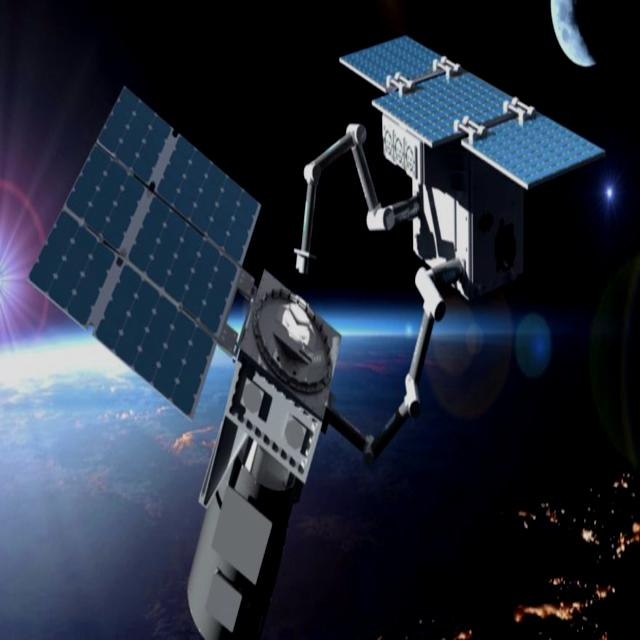satellite: (21, 25, 610, 640)
